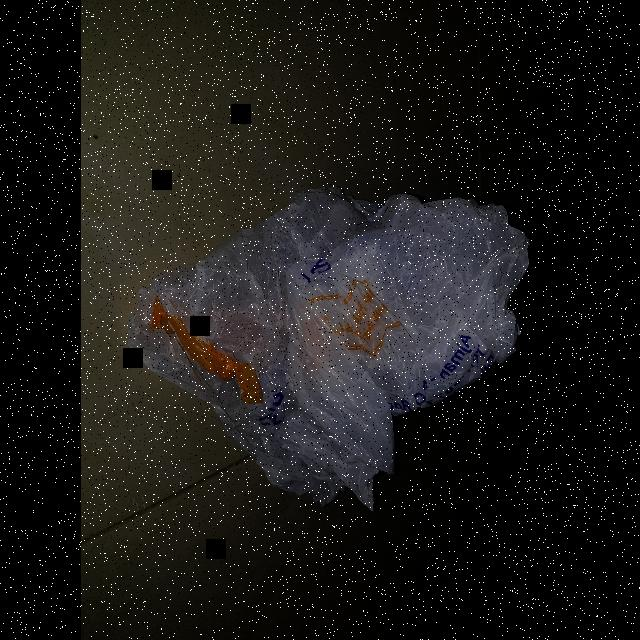plastic_bag: (111, 175, 539, 521)
